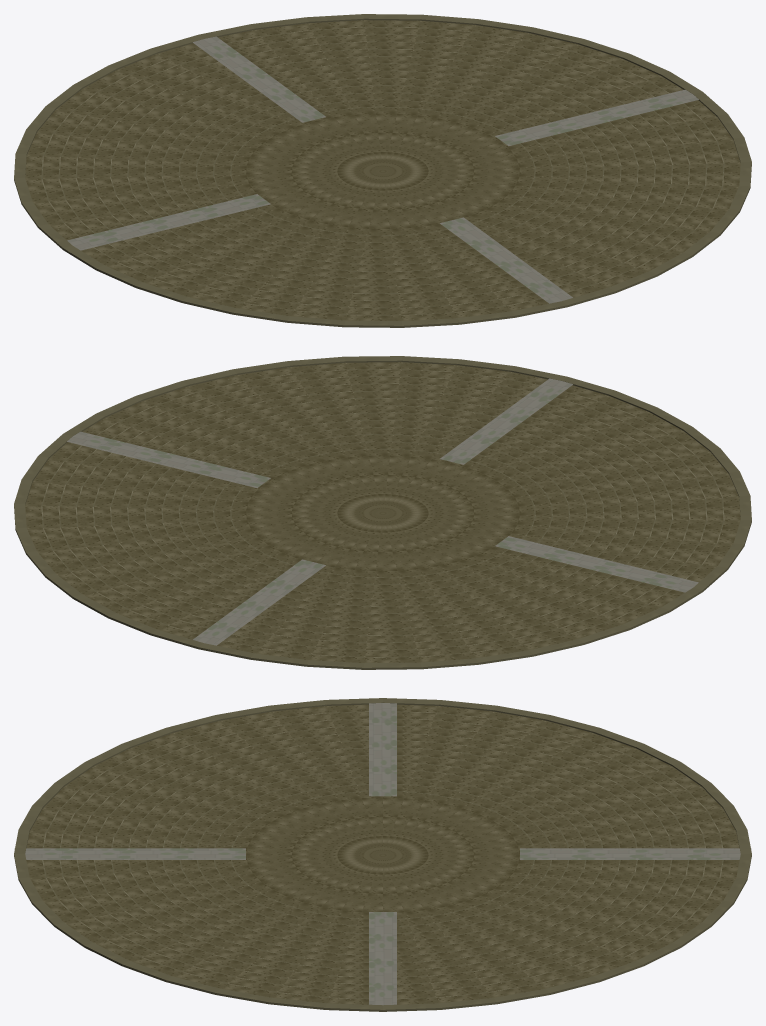
The model's file is city_large_base.glb.
3 views of the same model, one above another, from view 1: azimuth 30°, elevation 25°; view 2: azimuth 150°, elevation 25°; view 3: azimuth 270°, elevation 25° (orthographic).
Parts seen in each view (by area): view 1: ae_forest_city_large_base; view 2: ae_forest_city_large_base; view 3: ae_forest_city_large_base.
Boxes of the visible parts, x1,y1,x2,y2 form: ae_forest_city_large_base: (14,14,751,327); ae_forest_city_large_base: (14,356,751,669); ae_forest_city_large_base: (14,698,751,1011).
Size of the model in its own units: 1.97 by 0.00602 by 1.97.
1 material, 1 textured.
